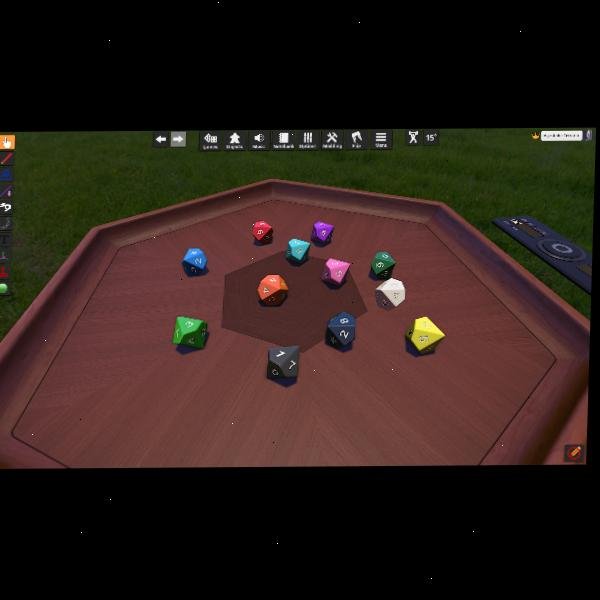d10: (405, 316, 443, 354), (175, 315, 210, 348), (267, 345, 300, 379), (326, 312, 356, 349), (256, 273, 288, 305), (374, 277, 402, 309), (321, 257, 349, 286), (182, 247, 209, 274), (371, 250, 396, 278), (285, 238, 308, 263), (311, 221, 333, 244), (253, 219, 273, 243)
